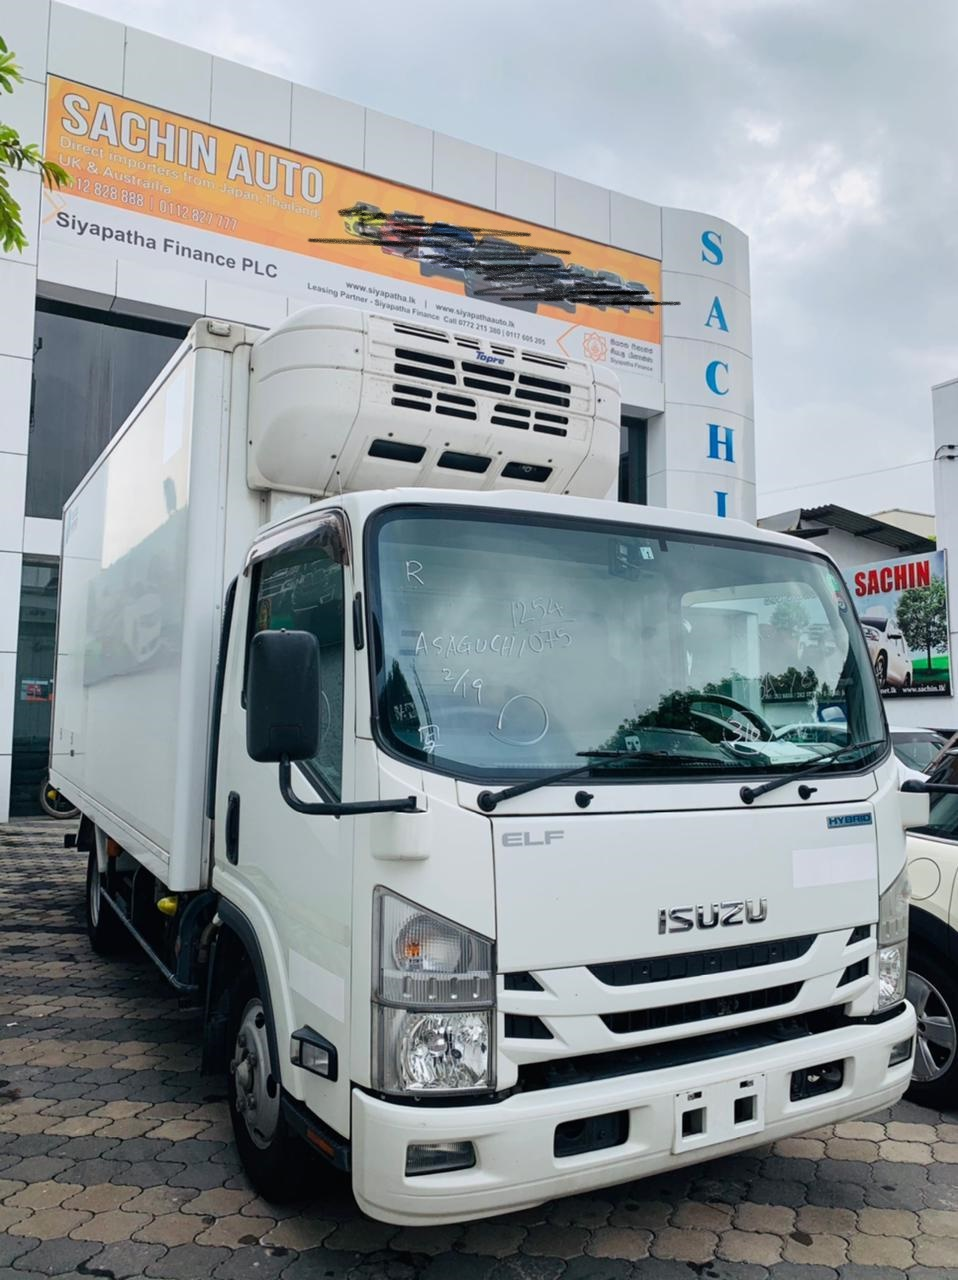truck: (40, 313, 913, 1229)
